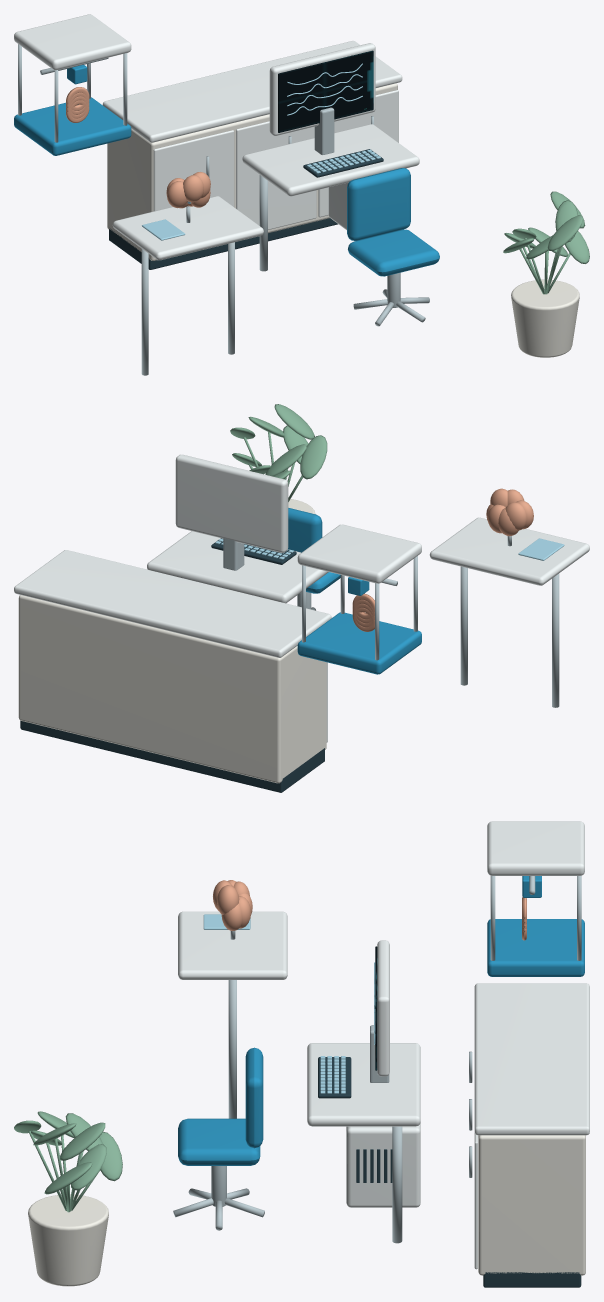
The model's file is consult.glb.
3 views of the same model, one above another, from view 1: azimuth 30°, elevation 25°; view 2: azimuth 150°, elevation 25°; view 3: azimuth 270°, elevation 25° (orthographic). The views are drawn at different scales.
Visible parts, largest first — view 1: consult__Powder coat • warm porcelain, consult__Satin cobalt plastic, consult__Cabinet ivory, consult__Brushed aluminium, consult__Diagnostic glass • fictional, consult__Sage foliage, consult__Rubber and screen bezel, consult__Warm clay accent, consult__Pale blue polymer; view 2: consult__Powder coat • warm porcelain, consult__Cabinet ivory, consult__Satin cobalt plastic, consult__Brushed aluminium, consult__Sage foliage, consult__Rubber and screen bezel, consult__Warm clay accent, consult__Pale blue polymer; view 3: consult__Powder coat • warm porcelain, consult__Cabinet ivory, consult__Satin cobalt plastic, consult__Brushed aluminium, consult__Sage foliage, consult__Rubber and screen bezel, consult__Warm clay accent, consult__Pale blue polymer.
Part boxes in pixels (left/top/right/bottom): consult__Powder coat • warm porcelain: left=14, top=14, right=419, bottom=260; consult__Satin cobalt plastic: left=14, top=64, right=439, bottom=276; consult__Cabinet ivory: left=107, top=83, right=579, bottom=357; consult__Brushed aluminium: left=18, top=44, right=429, bottom=375; consult__Diagnostic glass • fictional: left=278, top=50, right=373, bottom=132; consult__Sage foliage: left=503, top=191, right=589, bottom=294; consult__Rubber and screen bezel: left=109, top=149, right=383, bottom=269; consult__Warm clay accent: left=66, top=87, right=210, bottom=208; consult__Pale blue polymer: left=142, top=63, right=380, bottom=240; consult__Powder coat • warm porcelain: left=14, top=454, right=589, bottom=742; consult__Cabinet ivory: left=18, top=499, right=326, bottom=783; consult__Satin cobalt plastic: left=288, top=508, right=421, bottom=674; consult__Brushed aluminium: left=223, top=536, right=559, bottom=707; consult__Sage foliage: left=230, top=404, right=327, bottom=501; consult__Rubber and screen bezel: left=20, top=538, right=324, bottom=792; consult__Warm clay accent: left=352, top=488, right=533, bottom=631; consult__Pale blue polymer: left=215, top=538, right=564, bottom=560; consult__Powder coat • warm porcelain: left=178, top=821, right=589, bottom=1269; consult__Cabinet ivory: left=28, top=1135, right=585, bottom=1286; consult__Satin cobalt plastic: left=178, top=876, right=584, bottom=1165; consult__Brushed aluminium: left=173, top=875, right=581, bottom=1243; consult__Sage foliage: left=14, top=1111, right=122, bottom=1212; consult__Rubber and screen bezel: left=318, top=1057, right=581, bottom=1287; consult__Warm clay accent: left=213, top=880, right=526, bottom=940; consult__Pale blue polymer: left=203, top=914, right=375, bottom=1093.
Bounding box in the file's own units: 2.65 × 1.55 × 2.94.
10 materials, 2 textured.
